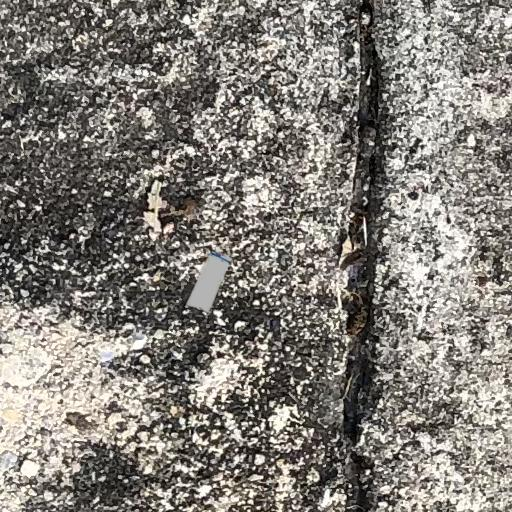smoke: (188, 252, 231, 312)
